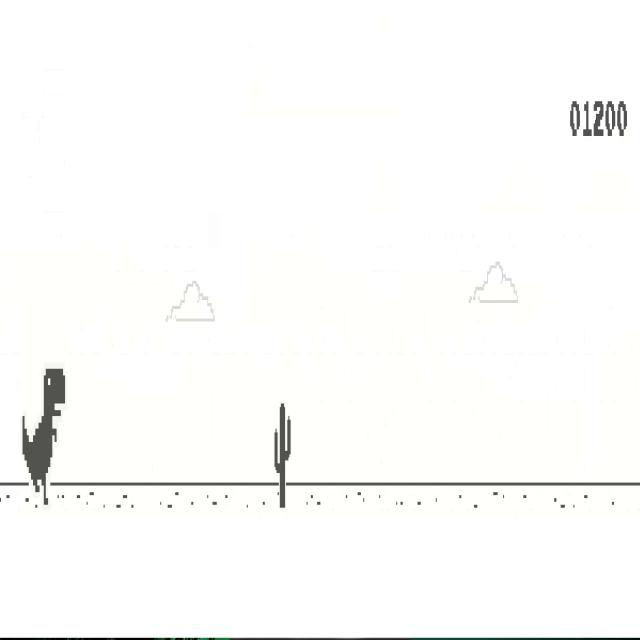cacto: (274, 402, 291, 508)
dino: (21, 366, 66, 507)
